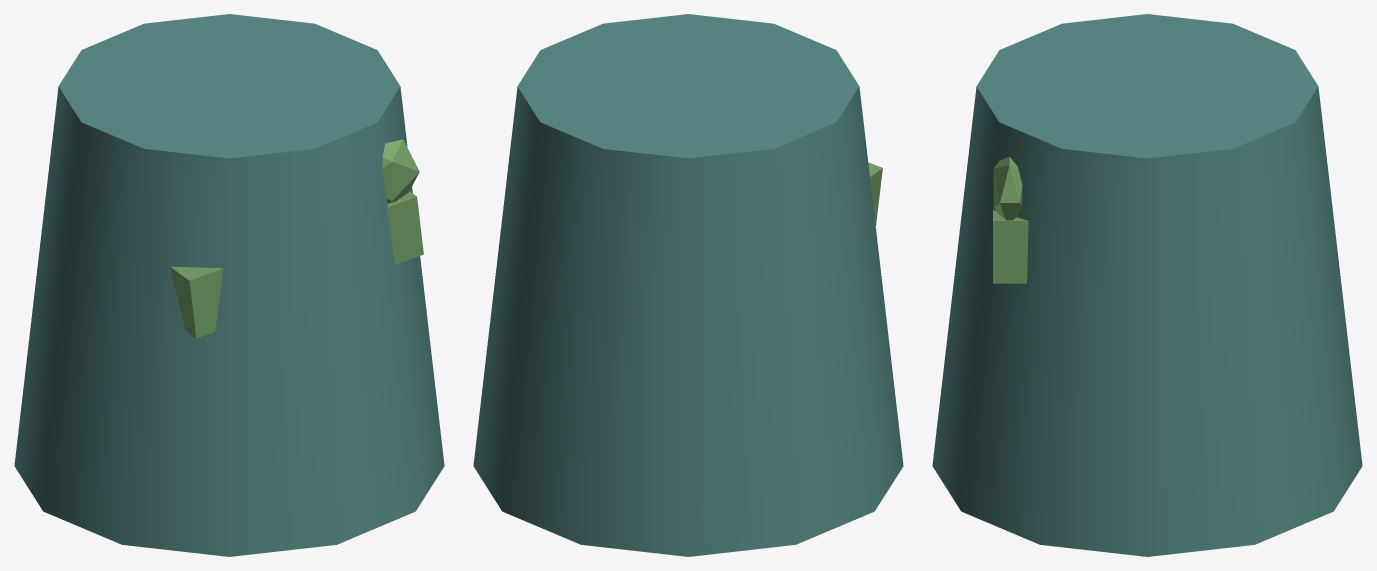
Rendered from resident_02_outfit.glb.
3 views of the same model, side by side, from view 1: azimuth 30°, elevation 25°; view 2: azimuth 150°, elevation 25°; view 3: azimuth 270°, elevation 25° (orthographic).
Visible parts, largest first — view 1: outfit_torso, outfit_trim, outfit_badge; view 2: outfit_torso; view 3: outfit_torso, outfit_trim, outfit_badge.
Boxes of the visible parts, <box> form: outfit_torso: <box>14,14,444,556</box>; outfit_trim: <box>170,191,423,338</box>; outfit_badge: <box>382,139,419,203</box>; outfit_torso: <box>473,14,903,556</box>; outfit_torso: <box>932,14,1362,556</box>; outfit_trim: <box>993,210,1028,283</box>; outfit_badge: <box>993,157,1022,220</box>.
Size of the model in its own units: 0.78 by 0.76 by 0.78.
